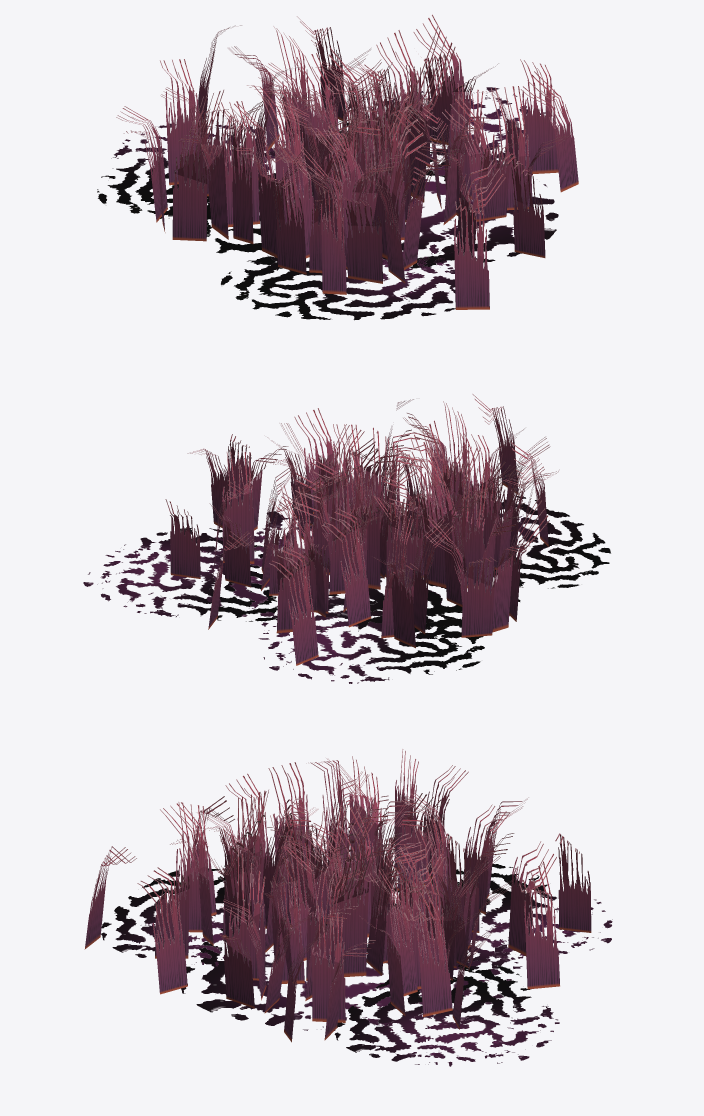
File: GrassPatch.fbx
3 views of the same model, one above another, from view 1: azimuth 30°, elevation 25°; view 2: azimuth 150°, elevation 25°; view 3: azimuth 270°, elevation 25° (orthographic). The views are drawn at different scales.
Visible parts, largest first — view 1: Plane.006; view 2: Plane.006; view 3: Plane.006.
Boxes of the visible parts, x1,y1,x2,y2 form: Plane.006: (97, 14, 578, 320); Plane.006: (83, 394, 610, 683); Plane.006: (84, 749, 612, 1066).
Size of the model in its own units: 534 by 142 by 572.
